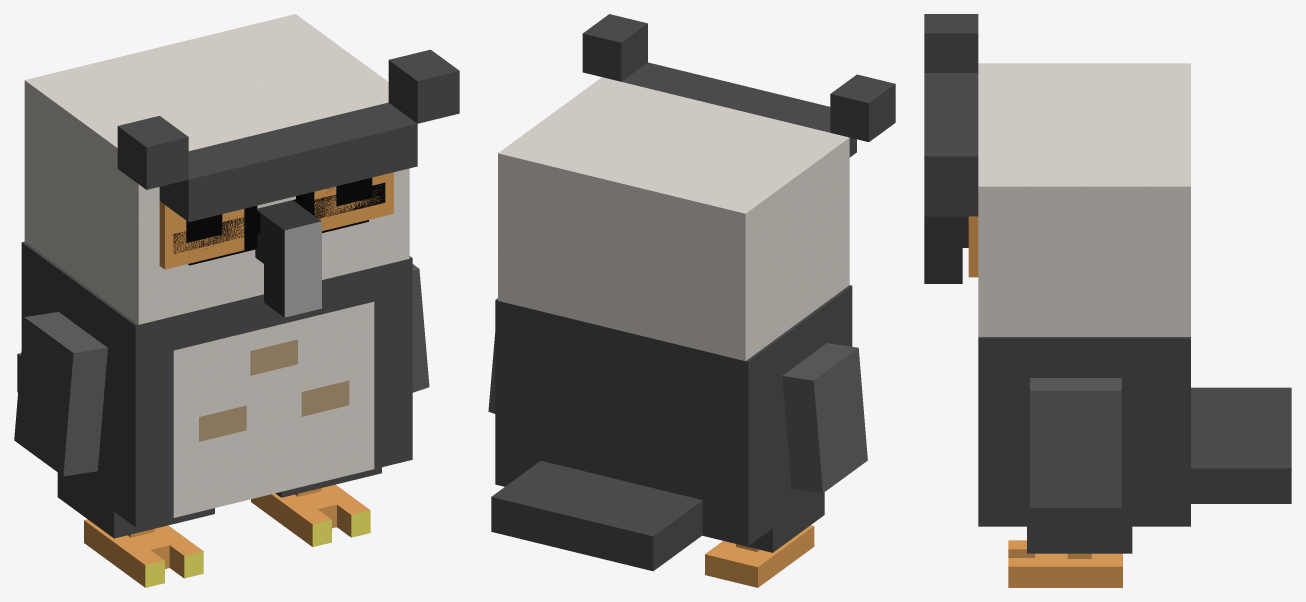
The picture shows the model from 3 angles, left to right: view 1: azimuth 30°, elevation 25°; view 2: azimuth 150°, elevation 25°; view 3: azimuth 270°, elevation 25°; orthographic projection. The views are drawn at different scales.
Parts seen in each view (by area): view 1: Ch_22_Head, Ch_22, Ch_22_Wing_L, Ch_22_Leg_L, Ch_22_Eye_01, Ch_22_Leg_R, Ch_22_Eye_02, Ch_22_Wing_R; view 2: Ch_22_Head, Ch_22, Ch_22_Wing_L, Ch_22_Leg_L; view 3: Ch_22_Head, Ch_22, Ch_22_Wing_R, Ch_22_Leg_R, Ch_22_Eye_01.
Part boxes in pixels (x1,y1,x2,y2): Ch_22_Head: (24,14,459,324); Ch_22: (17,241,412,527); Ch_22_Wing_L: (14,312,107,476); Ch_22_Leg_L: (57,472,214,587); Ch_22_Eye_01: (159,172,393,269); Ch_22_Leg_R: (251,467,381,546); Ch_22_Eye_02: (173,182,385,253); Ch_22_Wing_R: (412,264,429,392); Ch_22_Head: (498,14,895,360); Ch_22: (491,285,852,571); Ch_22_Wing_L: (782,343,867,493); Ch_22_Leg_L: (702,492,824,587); Ch_22_Head: (924,14,1190,336); Ch_22: (978,337,1291,526); Ch_22_Wing_R: (1030,378,1121,507); Ch_22_Leg_R: (1008,526,1132,587); Ch_22_Eye_01: (968,216,978,277).
Size of the model in its own units: 9.04 by 11.43 by 8.43.
